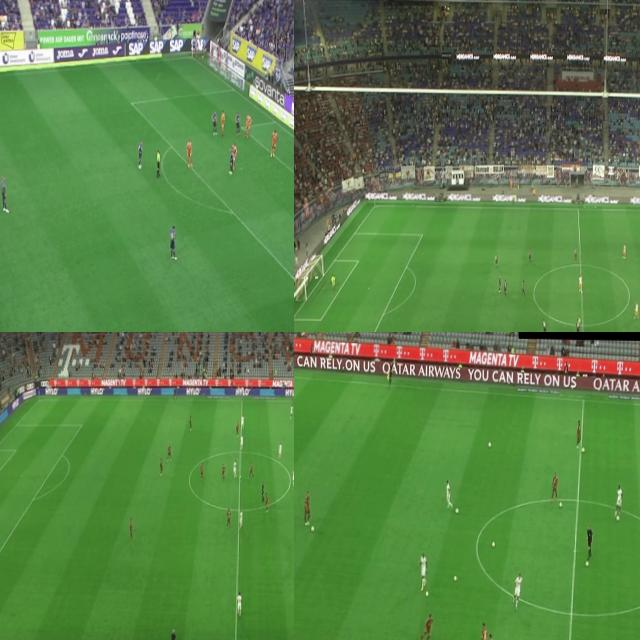ball: (557, 499, 562, 509), (492, 538, 496, 548), (616, 512, 620, 522), (425, 590, 430, 596), (488, 439, 491, 448), (580, 290, 584, 296), (455, 507, 459, 512), (238, 473, 241, 479), (454, 573, 456, 582), (585, 559, 588, 565)
player: (166, 220, 178, 262), (0, 175, 10, 215), (302, 492, 312, 528), (184, 136, 193, 170), (614, 483, 623, 517), (134, 140, 144, 170), (443, 479, 452, 510), (419, 552, 426, 590), (513, 572, 520, 610), (270, 128, 278, 160), (423, 613, 432, 640), (230, 140, 238, 168), (212, 104, 219, 134), (552, 472, 559, 501), (245, 112, 252, 140), (576, 417, 582, 447), (236, 590, 242, 618), (478, 622, 487, 640), (218, 108, 224, 134), (228, 147, 233, 175), (166, 441, 172, 464), (235, 110, 241, 132), (248, 459, 254, 479), (129, 514, 134, 536), (520, 279, 526, 297), (634, 300, 640, 318), (503, 278, 508, 298), (330, 273, 337, 287), (484, 633, 497, 640), (264, 490, 268, 512), (227, 507, 231, 527), (233, 458, 237, 478), (622, 242, 626, 260), (578, 274, 582, 292), (277, 442, 281, 460), (238, 510, 242, 528), (188, 415, 192, 433), (234, 421, 238, 439), (240, 414, 244, 432), (494, 252, 499, 266), (527, 246, 531, 262), (290, 404, 294, 420), (220, 464, 224, 480), (239, 434, 243, 450), (542, 317, 546, 332), (160, 456, 163, 476), (574, 245, 578, 259), (576, 318, 580, 332), (291, 468, 294, 485), (200, 461, 202, 479), (498, 275, 500, 292)
